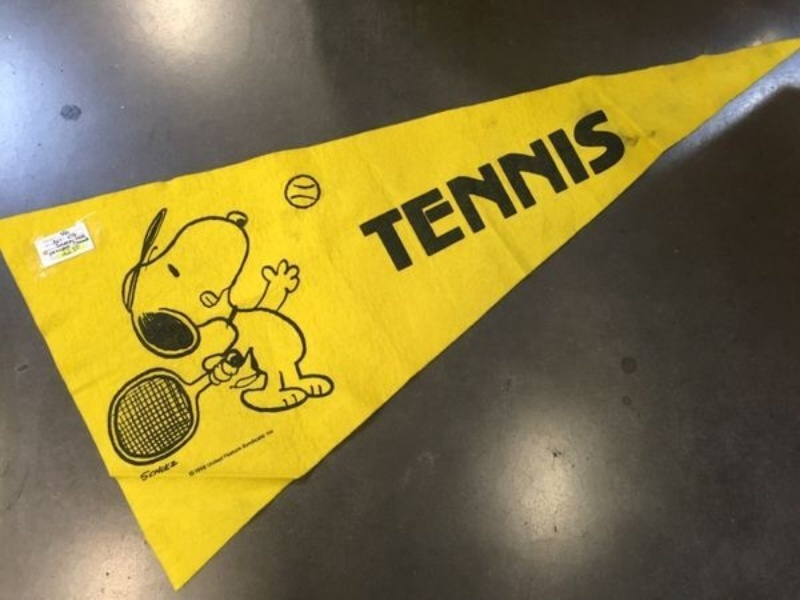text: (369, 105, 384, 278), (385, 105, 400, 278), (401, 105, 416, 278), (417, 105, 432, 278), (433, 105, 448, 278), (449, 105, 464, 278), (465, 105, 480, 278), (481, 105, 496, 278), (497, 105, 512, 278), (513, 105, 528, 278), (529, 105, 544, 278), (545, 105, 560, 278), (561, 105, 576, 278), (577, 105, 592, 278), (593, 105, 608, 278), (609, 105, 624, 278), (355, 105, 368, 278), (625, 105, 633, 278), (193, 426, 208, 481), (209, 426, 224, 481), (225, 426, 240, 481), (241, 426, 256, 481), (257, 426, 272, 481), (49, 223, 64, 269), (65, 223, 80, 269), (81, 223, 96, 269), (49, 223, 64, 267), (65, 223, 80, 267), (34, 223, 48, 267), (35, 223, 48, 269), (81, 223, 93, 267), (145, 457, 160, 486), (161, 457, 176, 486), (131, 457, 144, 486), (186, 426, 192, 481), (177, 457, 185, 486), (273, 426, 275, 481), (97, 223, 98, 269)
